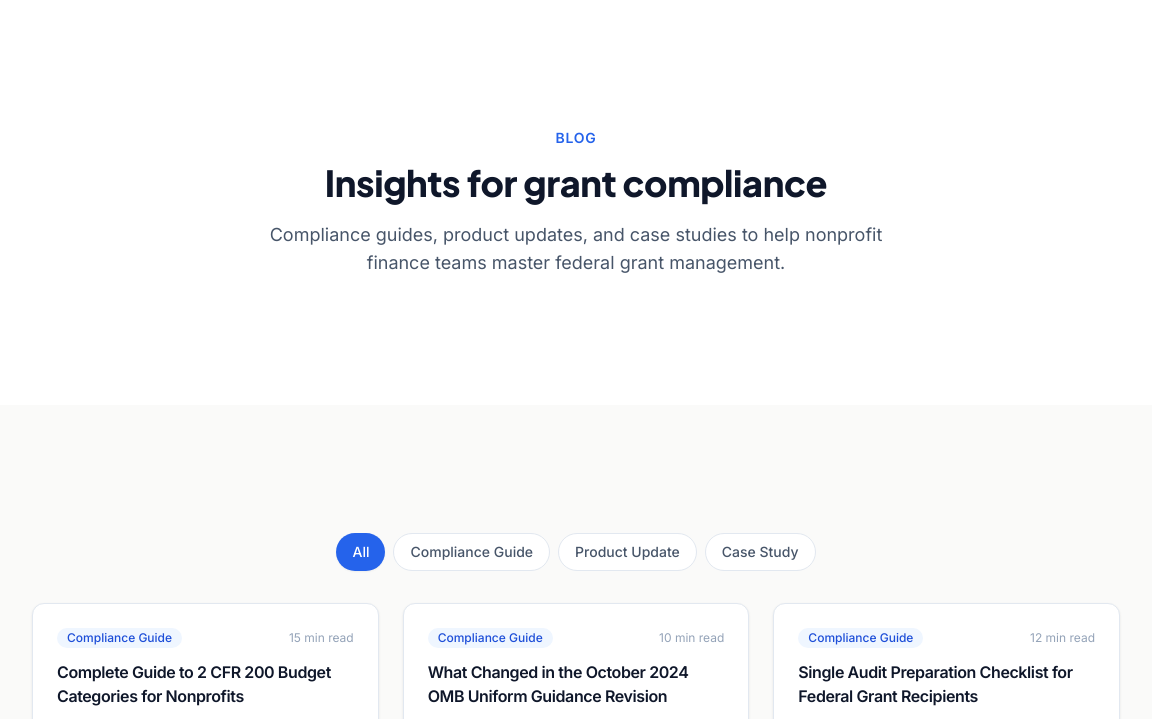
Test: BlogIndexPage › filters articles by category
Click the button "Case Study": (760, 552) [705,533,816,571]
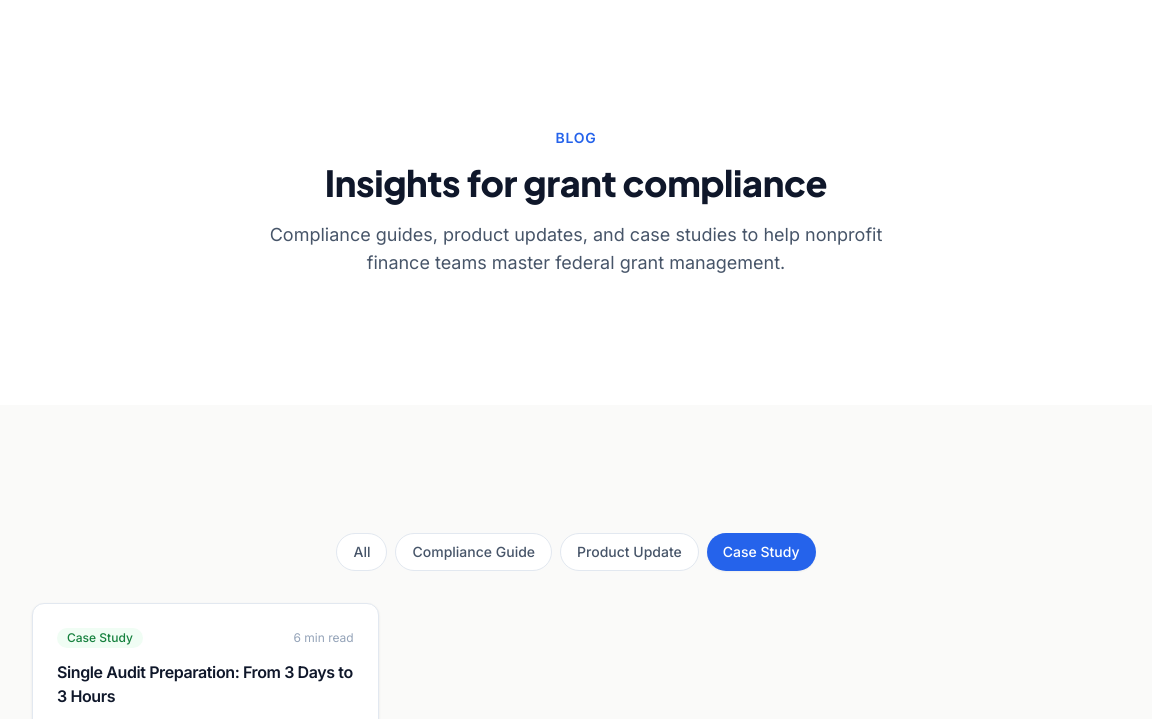
Check: the heading "Single Audit Preparation: From 3 Days to 3 Hours" is shown, box [57,660,354,708]
Check: the link "Complete Guide to 2 CFR 200 Budget Categories for Nonprofits" is gone
